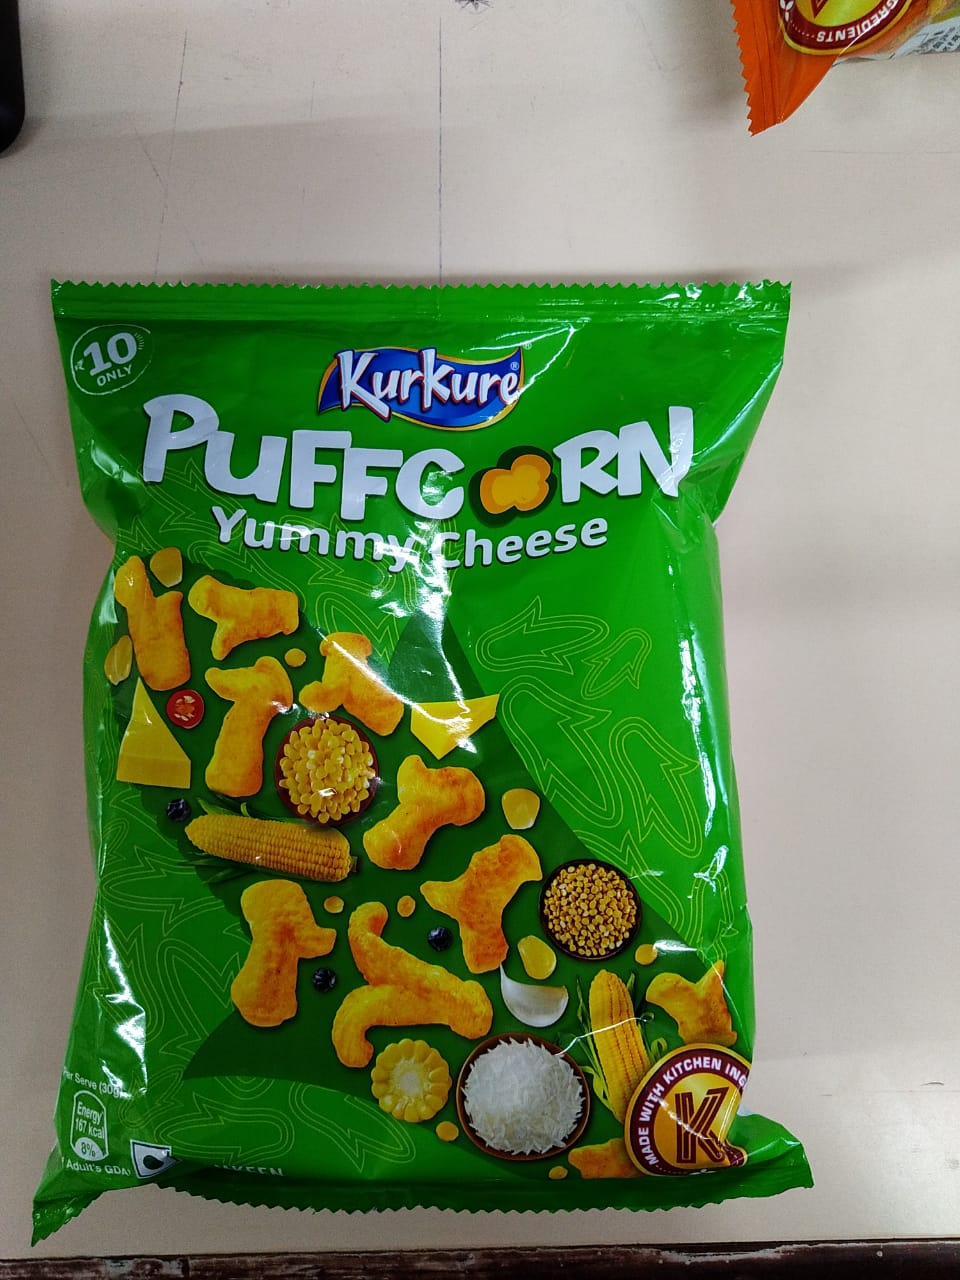kurkure: (306, 330, 561, 430), (353, 342, 498, 426)
plastic: (29, 244, 794, 1249)
wrapper: (49, 264, 831, 1208)
